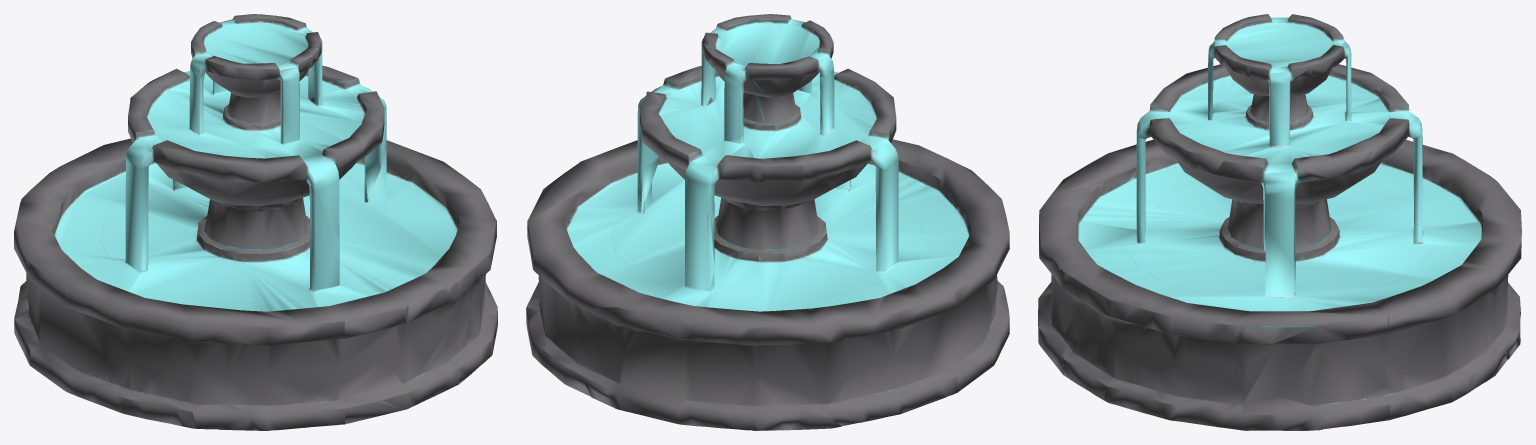
Rendered from fountain.glb.
3 views of the same model, side by side, from view 1: azimuth 30°, elevation 25°; view 2: azimuth 150°, elevation 25°; view 3: azimuth 270°, elevation 25° (orthographic).
Visible parts, largest first — view 1: Mesh_0; view 2: Mesh_0; view 3: Mesh_0.
Part boxes in pixels (box(x1,y1,x2,y2)): Mesh_0: box(14, 14, 497, 430); Mesh_0: box(526, 14, 1009, 430); Mesh_0: box(1038, 14, 1521, 430).
Size of the model in its own units: 1.9 by 1.26 by 1.91.
Materials: 1 (1 with a texture image).
